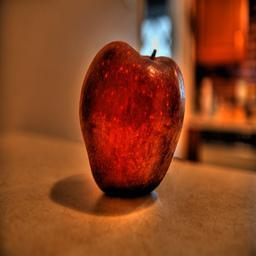apple: (75, 38, 186, 200)
